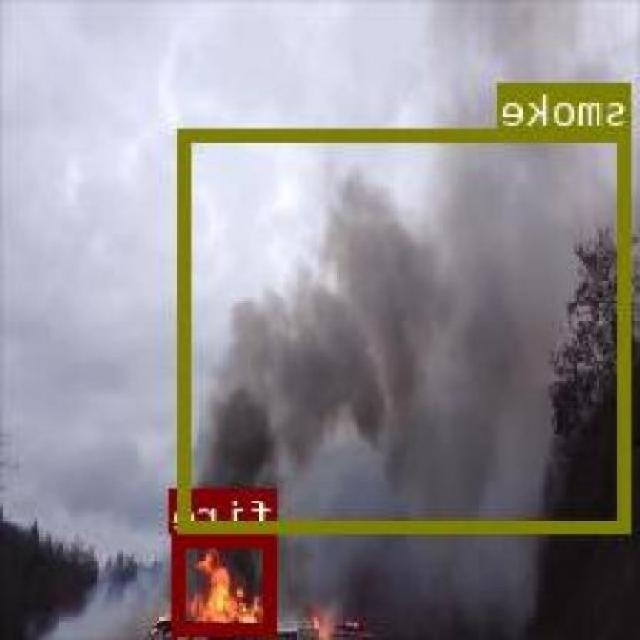Fire: (176, 534, 278, 632)
Smoke: (181, 125, 634, 530)
